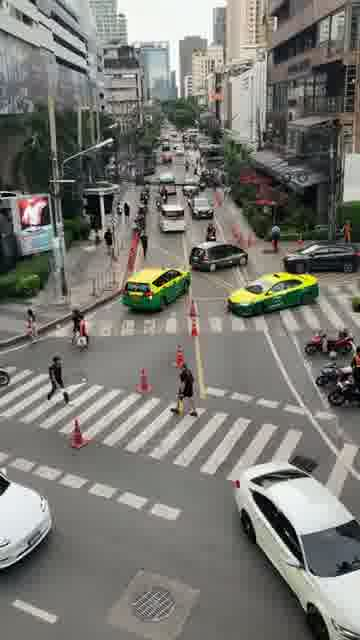bike: (315, 350, 359, 386), (304, 327, 355, 355), (327, 374, 359, 406), (206, 222, 216, 241), (160, 184, 167, 204)
car: (234, 460, 360, 640), (0, 466, 52, 569), (226, 271, 318, 317), (121, 263, 191, 310), (282, 241, 359, 274), (188, 240, 248, 272), (159, 204, 185, 233), (187, 191, 213, 219)
pedestrian: (169, 361, 198, 418), (45, 355, 73, 406), (23, 308, 37, 344), (76, 315, 89, 353), (71, 308, 82, 344), (270, 224, 281, 254), (103, 227, 112, 256), (139, 231, 147, 258), (92, 227, 101, 247), (223, 183, 232, 201), (115, 201, 122, 224), (123, 201, 130, 224)
